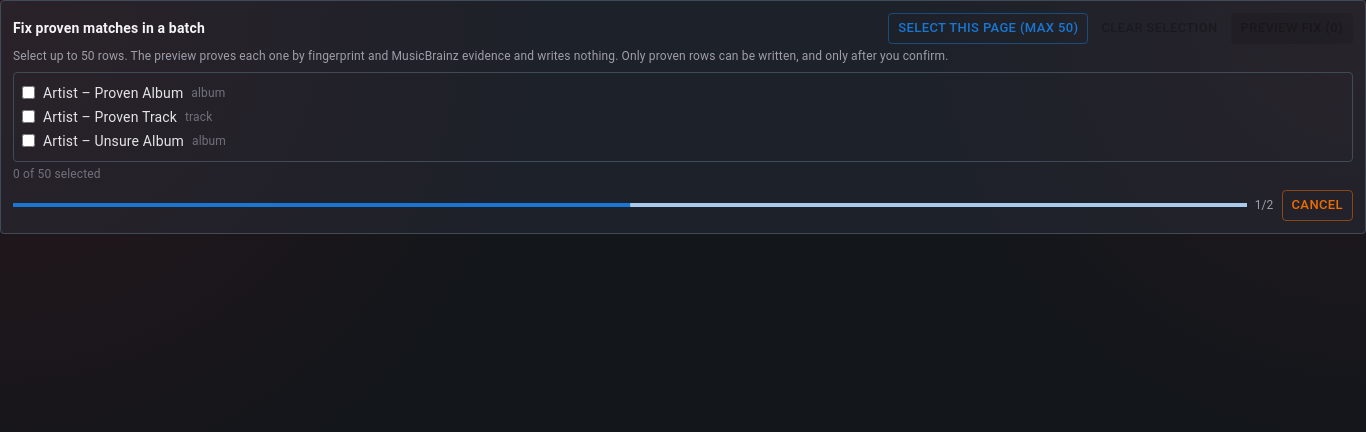
Missing IDs batch fix (#399) › a Recovery Required apply links to the transaction; a stored job is resumed and can be cancelled
Click the button "Cancel" at (1317, 205), box [1282,190,1353,221]
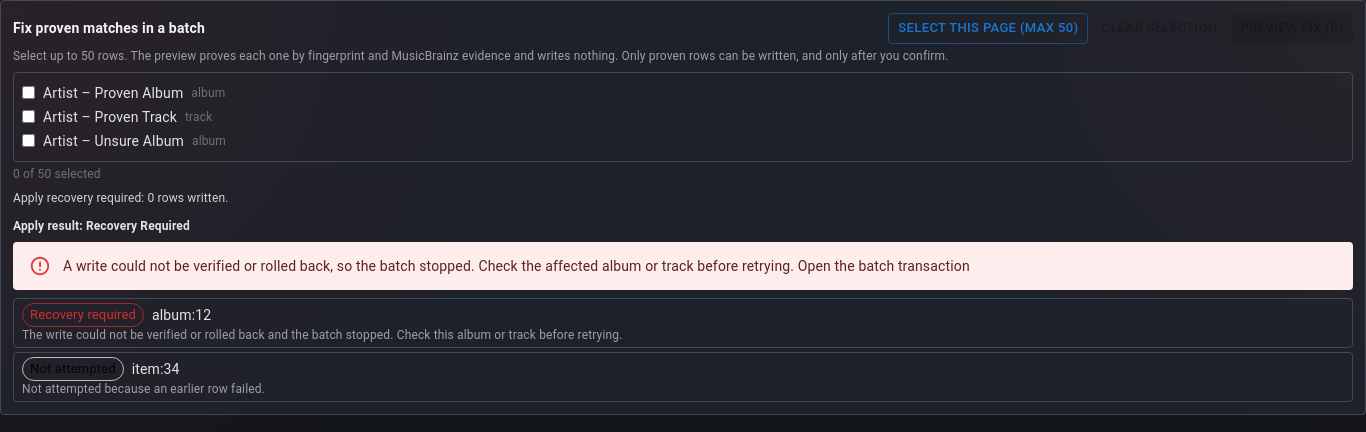
Expected: the text "stops after the row it is writing now" is shown, [13,191,228,205]
Expected: the text "Recovery required" is shown, [23,305,143,324]
Expected: the text "Not attempted because an earlier row failed." is shown, [22,382,265,396]
